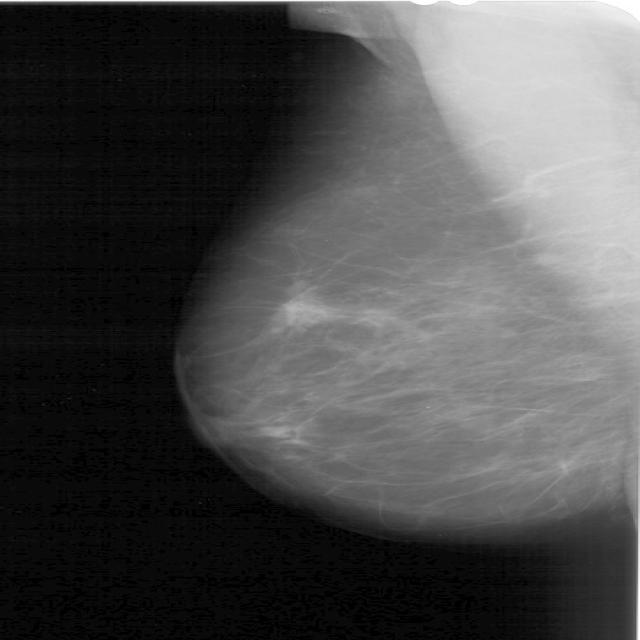tumour: (268, 287, 333, 330)
